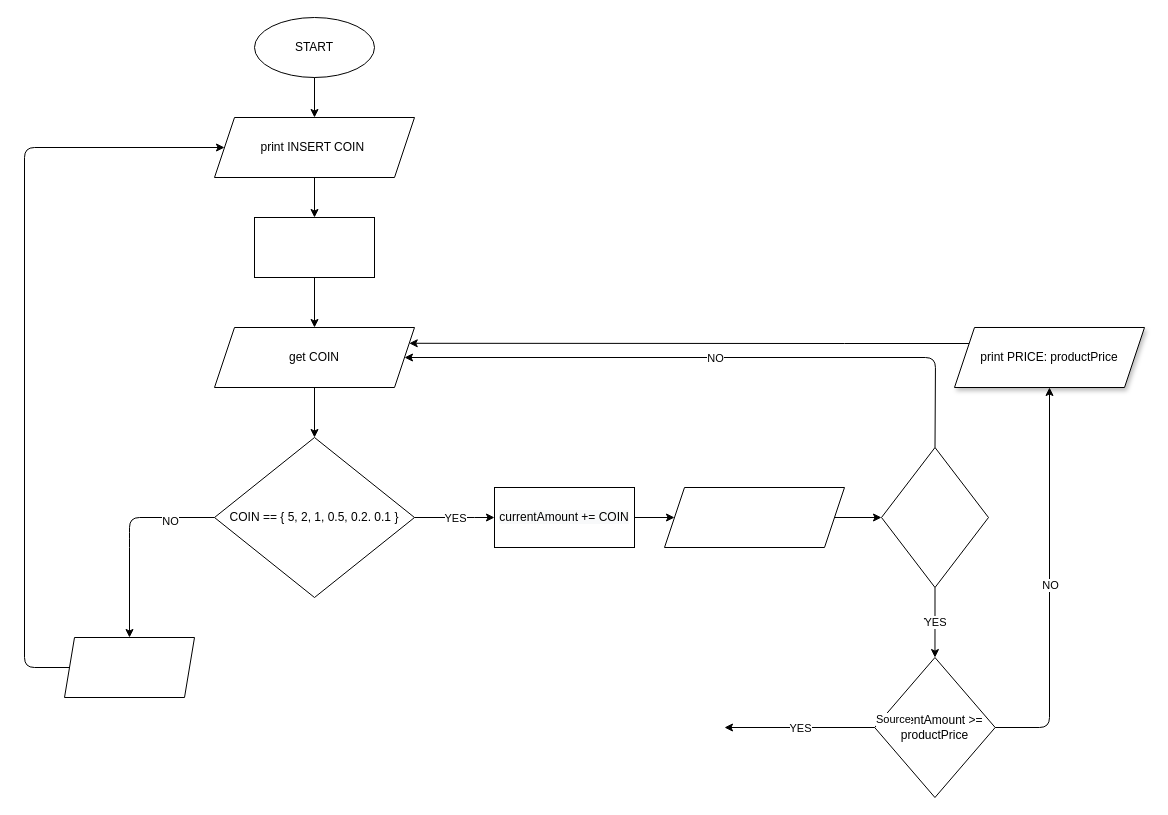
This 1168x815 diagram has some shape labels left out. Here are the shapes that lost their labels. From the top down, the centre of each, then its label:
At [314,247]: "currentAmount = 0".
At [754,517]: "print currentAmount".
At [934,517]: "Is product selected".
At [129,667]: "return COIN".
